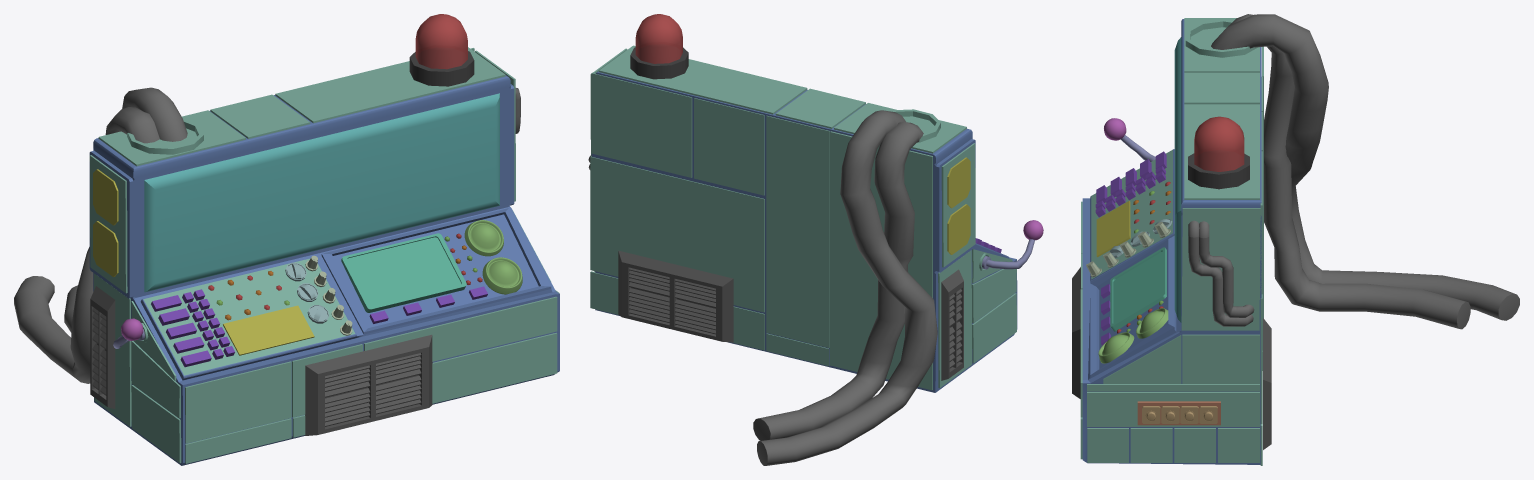
File: ControlPanel_Artstyle_NEW_low.fbx
3 renders of one model, left to right at view 1: azimuth 30°, elevation 25°; view 2: azimuth 150°, elevation 25°; view 3: azimuth 270°, elevation 25°, orthographic. The views are drawn at different scales.
Visible parts, largest first — view 1: ControlPanelMesh, pCube40, pasted__pCube5 (×2), pCylinder3, ContolPanel_SmallScreen, pCube6, pasted__pCube8, pCube5, pCube9, pCube43, WarningSign_01, pCube8 (+14 smaller); view 2: pCube24, pasted__pCube10, pCylinder3, pasted__pCube11, pCylinder2, pCube26, pCube42, ControlPanelMesh, pCube25, pCube6, pCube43, pasted__pCube9 (+13 smaller); view 3: ControlPanelMesh, pCylinder3, pCylinder2, pCube18, pCube10, pCube16, pCube6, ContolPanel_SmallScreen, pCube9, pCube8, pSphere2, pCube17 (+14 smaller).
Boxes of the visible parts, bbox=[...] form: ControlPanelMesh: bbox=[89, 75, 559, 465]; pCube40: bbox=[305, 334, 432, 435]; pasted__pCube5 (×2): bbox=[185, 344, 362, 443]; pCylinder3: bbox=[14, 87, 187, 383]; ContolPanel_SmallScreen: bbox=[341, 233, 466, 312]; pCube6: bbox=[275, 47, 505, 123]; pasted__pCube8: bbox=[432, 332, 557, 403]; pCube5: bbox=[364, 296, 557, 361]; pCube9: bbox=[98, 110, 245, 166]; pCube43: bbox=[90, 286, 115, 408]; WarningSign_01: bbox=[223, 305, 314, 355]; pCube8: bbox=[210, 94, 310, 138]; pCube24: bbox=[590, 156, 764, 312]; pasted__pCube10: bbox=[766, 115, 829, 347]; pCylinder3: bbox=[757, 110, 937, 465]; pasted__pCube11: bbox=[830, 131, 932, 390]; pCylinder2: bbox=[753, 122, 923, 440]; pCube26: bbox=[591, 72, 692, 177]; pCube42: bbox=[618, 250, 733, 342]; ControlPanelMesh: bbox=[591, 71, 1017, 392]; pCube25: bbox=[694, 98, 764, 195]; pCube6: bbox=[599, 45, 807, 114]; pCube43: bbox=[941, 269, 963, 380]; pasted__pCube9: bbox=[590, 271, 764, 350]; ControlPanelMesh: bbox=[1082, 19, 1261, 464]; pCylinder3: bbox=[1211, 14, 1519, 320]; pCylinder2: bbox=[1230, 14, 1470, 329]; pCube18: bbox=[1181, 208, 1260, 330]; pCube10: bbox=[1087, 392, 1259, 426]; pCube16: bbox=[1182, 334, 1259, 383]; pCube6: bbox=[1184, 104, 1259, 199]; ContolPanel_SmallScreen: bbox=[1110, 247, 1166, 331]; pCube9: bbox=[1184, 18, 1259, 72]; pCube8: bbox=[1184, 72, 1259, 104]; pSphere2: bbox=[1194, 116, 1244, 171]; pCube17: bbox=[1103, 335, 1181, 383].
Bounding box in the file's own units: 290 × 207 × 257.
